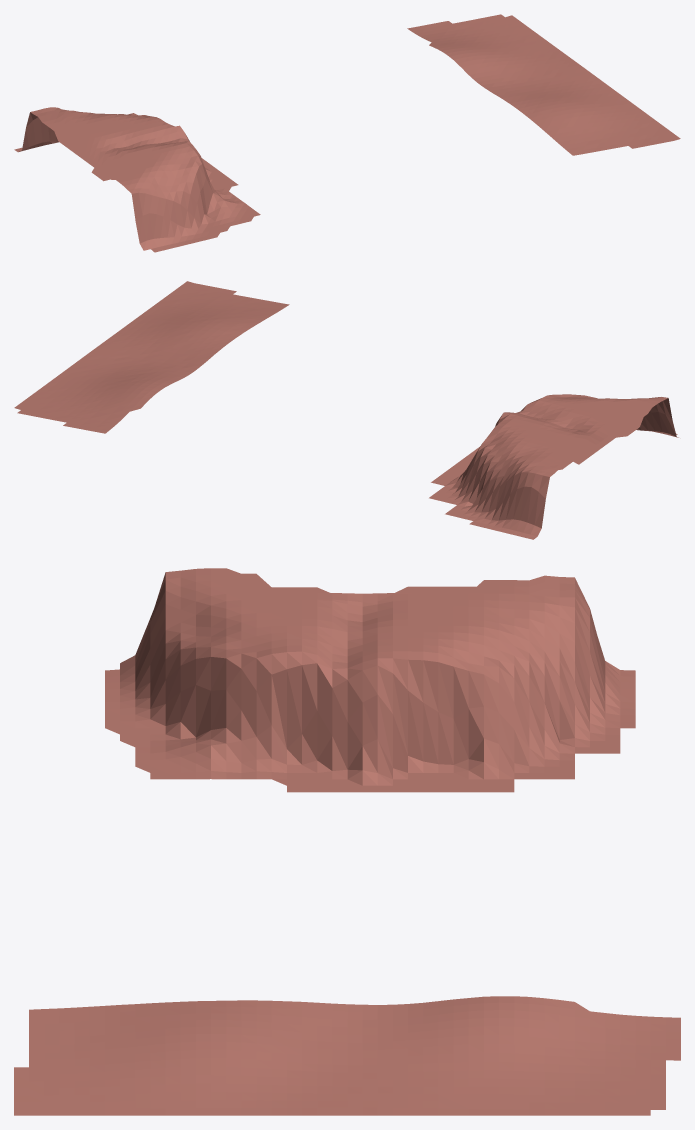
Rendered from australiasurface.fbx.
3 renders of one model, top to bottom at view 1: azimuth 30°, elevation 25°; view 2: azimuth 150°, elevation 25°; view 3: azimuth 270°, elevation 25°, orthographic. The views are drawn at different scales.
Visible parts, largest first — view 1: australia_BaseMesh; view 2: australia_BaseMesh; view 3: australia_BaseMesh.
Boxes of the visible parts, x1,y1,x2,y2 form: australia_BaseMesh: (14, 14, 680, 252); australia_BaseMesh: (14, 281, 678, 539); australia_BaseMesh: (14, 568, 680, 1115).
Bounding box in the file's own units: 286 × 27.27 × 172.
